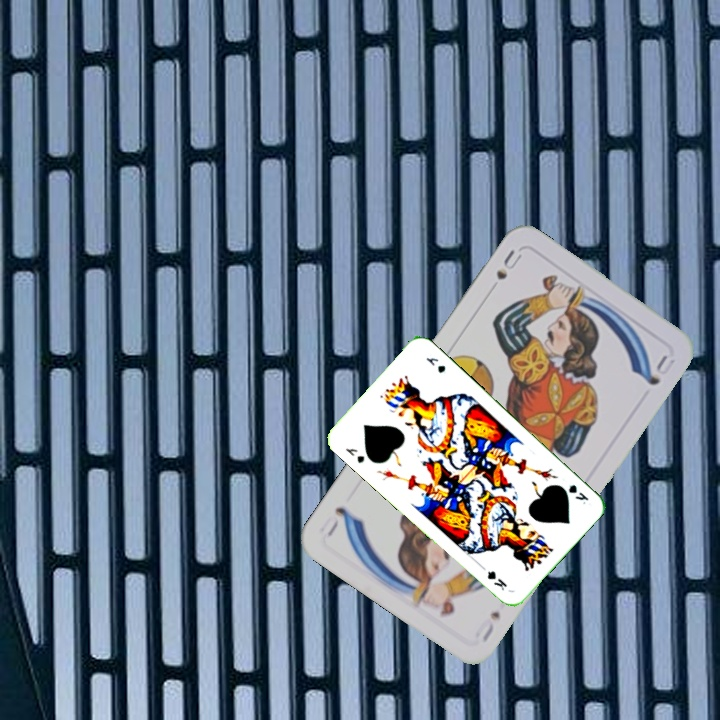GK: (564, 480, 591, 507), (341, 444, 367, 466)
SU: (491, 245, 525, 283), (470, 607, 503, 645)
